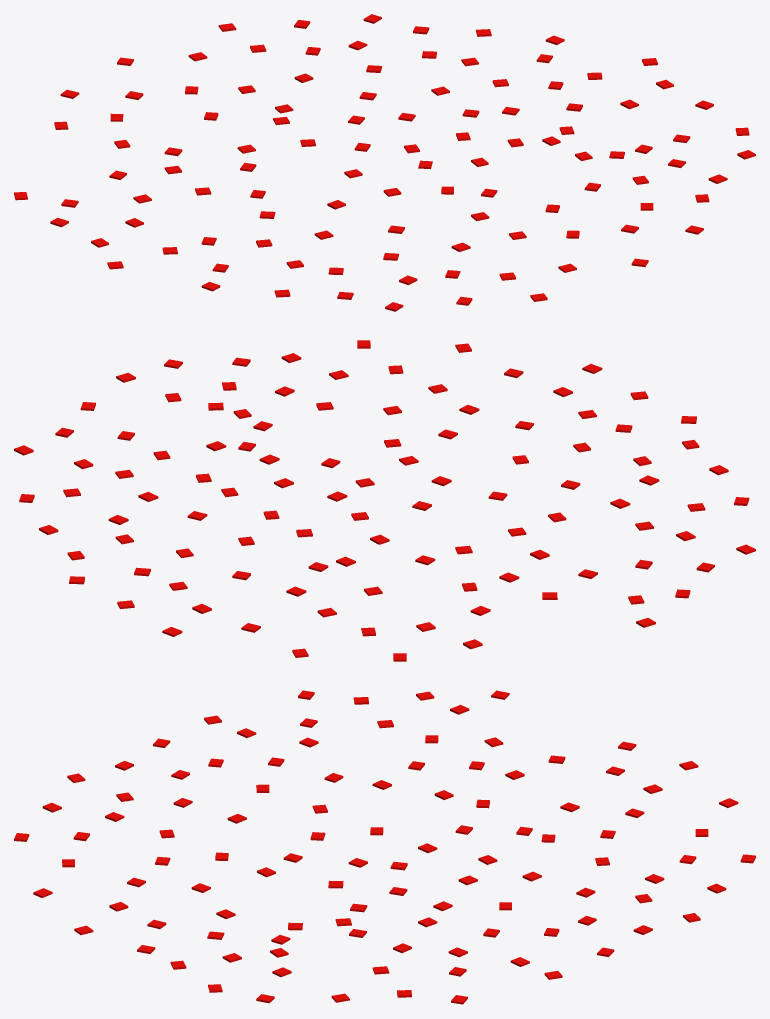
The model's file is tomato.glb.
3 renders of one model, top to bottom at view 1: azimuth 30°, elevation 25°; view 2: azimuth 150°, elevation 25°; view 3: azimuth 270°, elevation 25°, orthographic. The views are drawn at different scales.
Visible parts, largest first — view 1: tomato20; view 2: tomato20; view 3: tomato20.
Boxes of the visible parts, box(x1,y1,x2,y2) form: tomato20: box(14, 14, 755, 311); tomato20: box(14, 340, 755, 661); tomato20: box(14, 690, 755, 1004).
Bounding box in the file's own units: 0.3429 × 0.001 × 0.3444.
